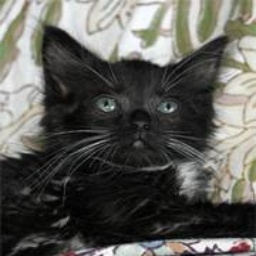cat: (3, 28, 253, 247)
